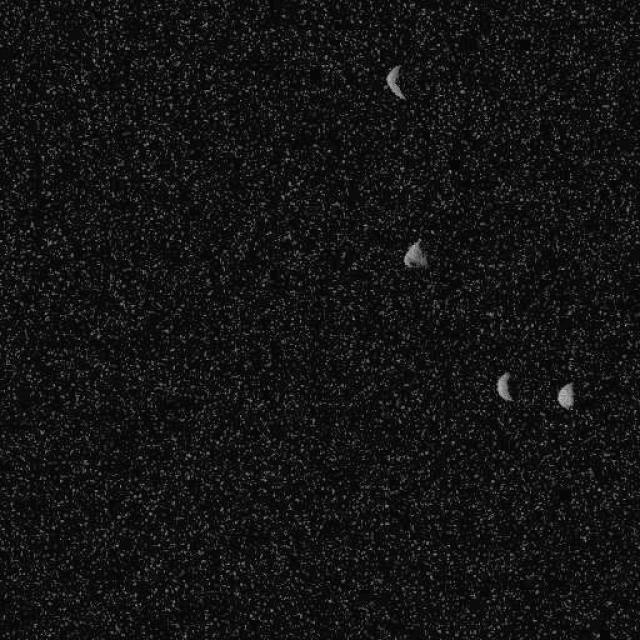D2: (402, 238, 428, 268), (384, 64, 405, 100), (495, 370, 514, 401), (556, 381, 575, 410)
